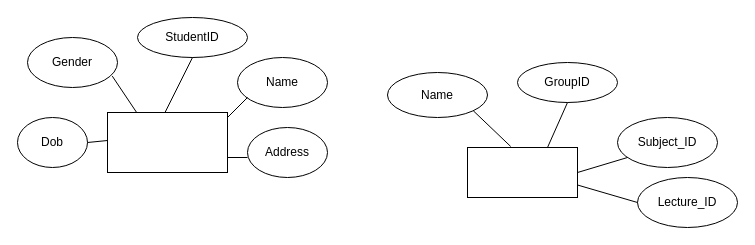
The diagram is 755 pixels wide and 245 high, and some of its shapes have lost their labels. Here are the shapes that lost their labels. From the top down, the centre of each, then its label:
At (167,142): "Student".
At (522,172): "Group".
